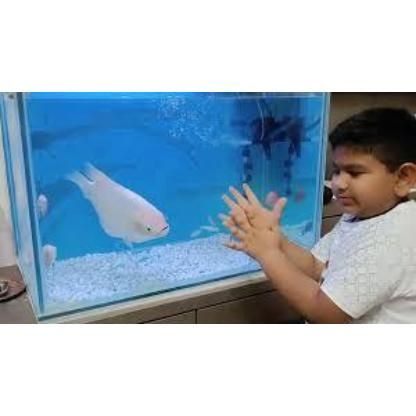gurame: (70, 169, 174, 241)
